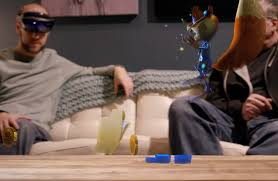hololens: (16, 10, 53, 34)
